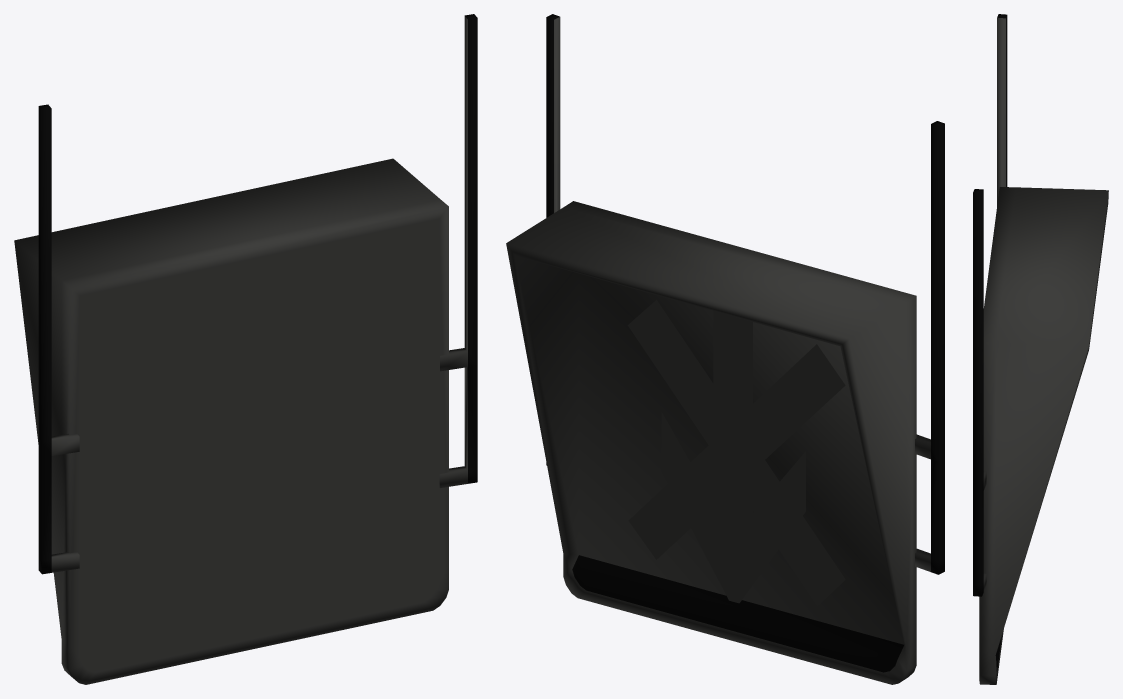
3 views of the same model, side by side, from view 1: azimuth 30°, elevation 25°; view 2: azimuth 150°, elevation 25°; view 3: azimuth 270°, elevation 25° (orthographic). The views are drawn at different scales.
Parts seen in each view (by area): view 1: LaneControlLight_1af223af_de80_46dd_8668_86fd9df5985a; view 2: LaneControlLight_1af223af_de80_46dd_8668_86fd9df5985a, sign_01, sign_02; view 3: LaneControlLight_1af223af_de80_46dd_8668_86fd9df5985a.
Part boxes in pixels (<box>): LaneControlLight_1af223af_de80_46dd_8668_86fd9df5985a: <box>14,14,477,684</box>; LaneControlLight_1af223af_de80_46dd_8668_86fd9df5985a: <box>506,14,944,684</box>; sign_01: <box>627,300,845,605</box>; sign_02: <box>661,311,805,603</box>; LaneControlLight_1af223af_de80_46dd_8668_86fd9df5985a: <box>973,14,1108,684</box>.
Size of the model in its own units: 0.9456 by 1.25 by 0.3027.
6 materials, 6 textured.
